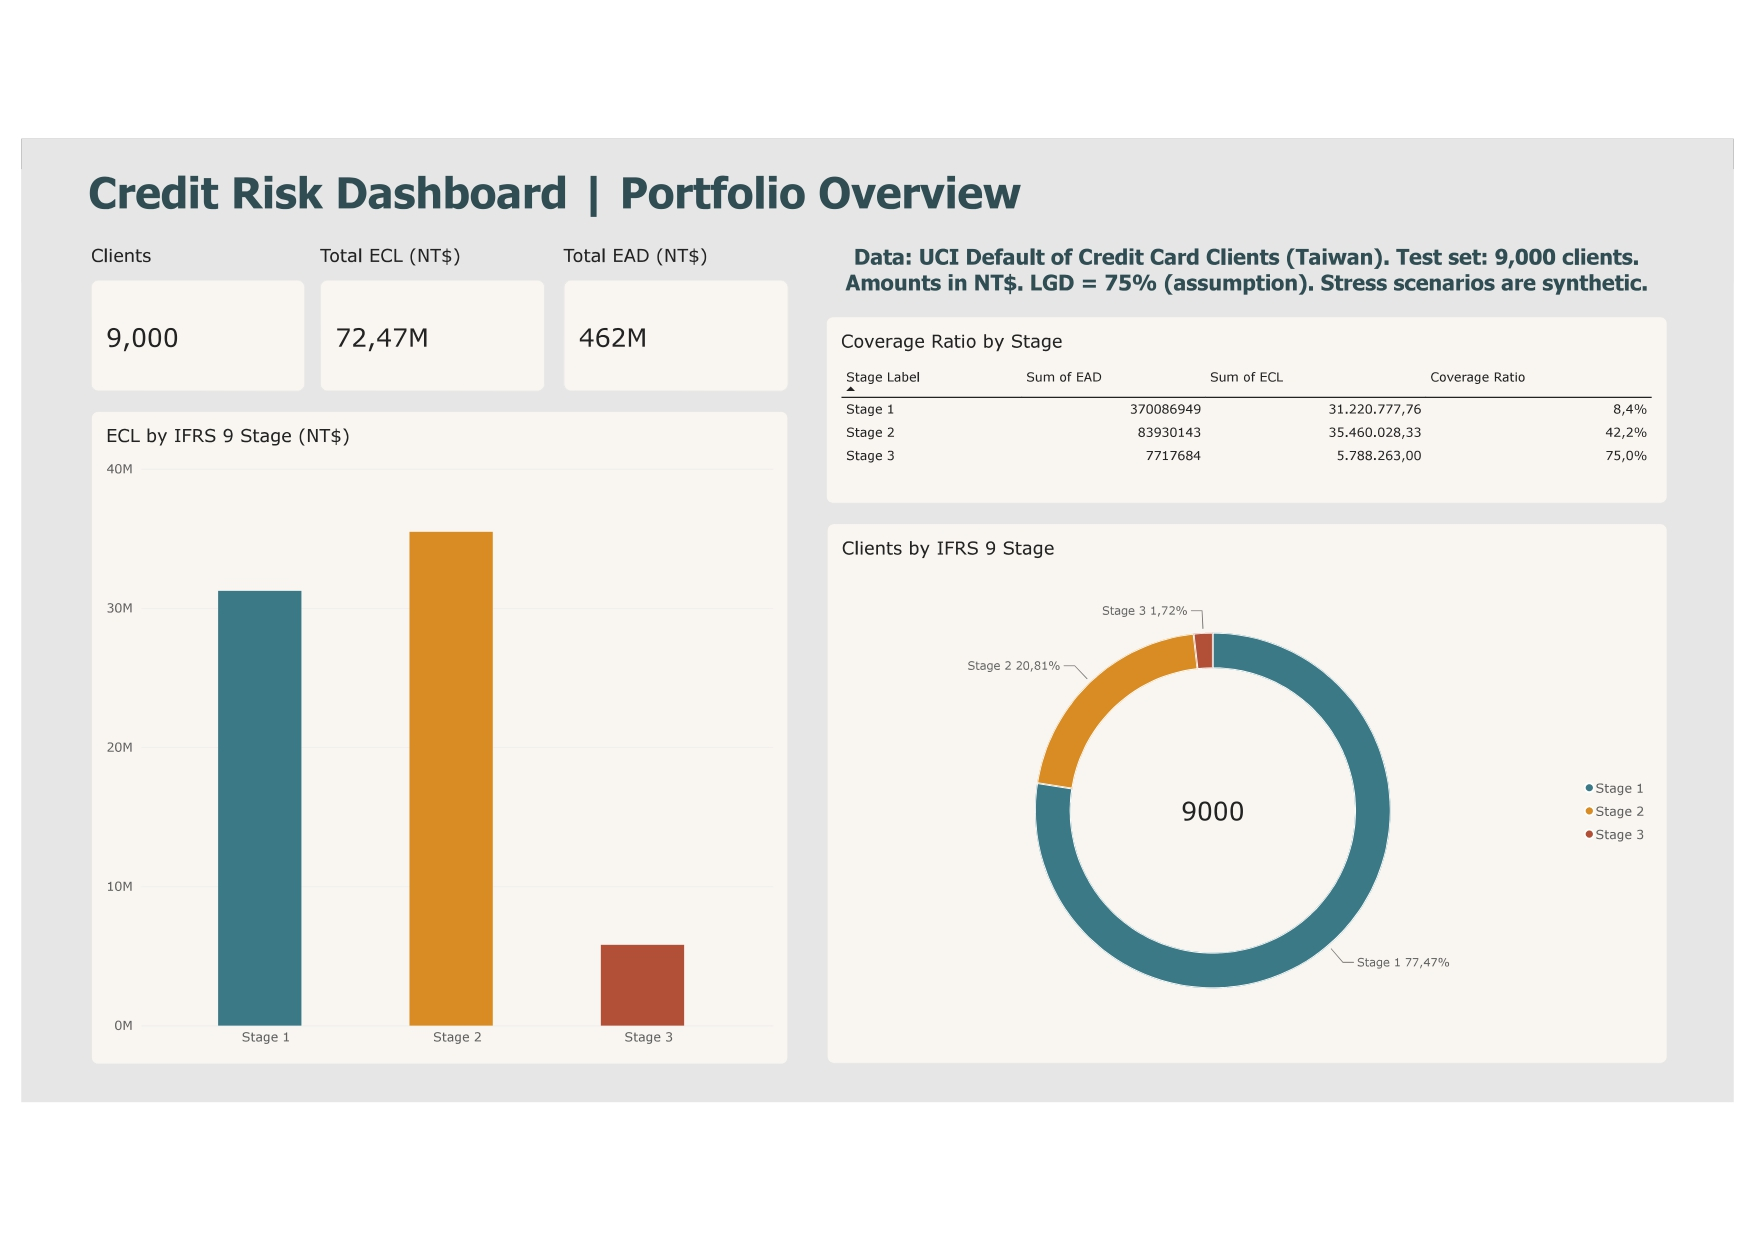

What the dashboard file says about the page in this screenshot:
{"tool":"powerbi","page":{"name":"Portfolio Overview","canvas":[1920,1080],"ordinal":0},"visuals":[{"type":"cardVisual","title":"Clients","fields":{"Data":["portfolio.Clients"]},"box":[77.5,117.5,240,165],"z":0},{"type":"cardVisual","title":"Total ECL (NT$)","fields":{"Data":["Sum(portfolio.ECL)"]},"box":[335,117.5,252.5,165],"z":1},{"type":"cardVisual","title":"Total EAD (NT$)","fields":{"Data":["Sum(portfolio.EAD)"]},"box":[607.5,117.5,252.5,165],"z":2},{"type":"clusteredColumnChart","title":"ECL by IFRS 9 Stage (NT$)","fields":{"Category":["portfolio.Stage Label"],"Y":["Sum(portfolio.ECL)"]},"box":[77.5,305,782.5,732.5],"z":3},{"type":"donutChart","title":"Clients by IFRS 9 Stage","fields":{"Category":["portfolio.Stage Label"],"Y":["CountNonNull(portfolio.STAGE)"]},"box":[902.8,431.4,942.7,605.1],"z":4},{"type":"tableEx","title":"Coverage Ratio by Stage","fields":{"Values":["portfolio.Stage Label","Sum(portfolio.EAD)","Sum(portfolio.ECL)","portfolio.Coverage Ratio"]},"box":[902.2,199.1,944,210],"z":5},{"type":"textbox","box":[902.2,117.1,944,82],"z":6},{"type":"textbox","box":[75,30,1232.5,62.5],"z":7}]}

Visuals, with their boxes on the page's 1920x1080 design canvas (x1, y1, x2, y2). These are canvas units, not pixel positions in the 1755x1241 screenshot, which may show the page scaled, cropped or inside an application window:
"Clients" cardVisual: locate(78, 118, 318, 282)
"Total ECL (NT$)" cardVisual: locate(335, 118, 588, 282)
"Total EAD (NT$)" cardVisual: locate(608, 118, 860, 282)
"ECL by IFRS 9 Stage (NT$)" clusteredColumnChart: locate(78, 305, 860, 1038)
"Clients by IFRS 9 Stage" donutChart: locate(903, 431, 1846, 1036)
"Coverage Ratio by Stage" tableEx: locate(902, 199, 1846, 409)
textbox: locate(902, 117, 1846, 199)
textbox: locate(75, 30, 1308, 92)
